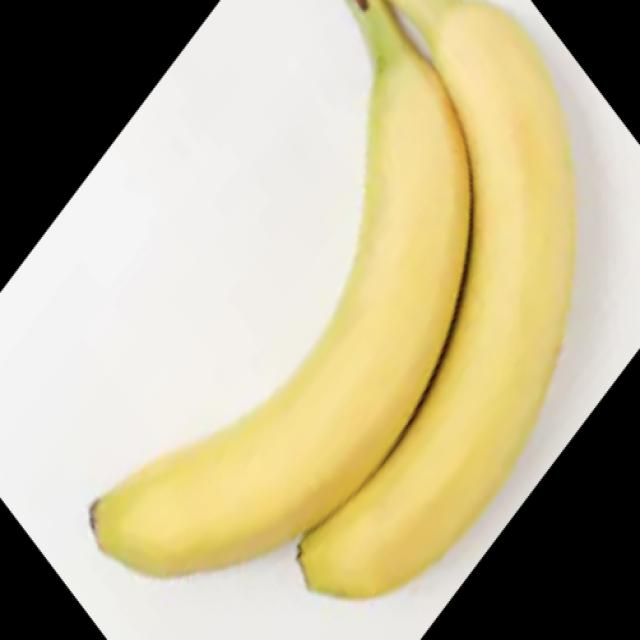god quality banana: (91, 0, 578, 598)
